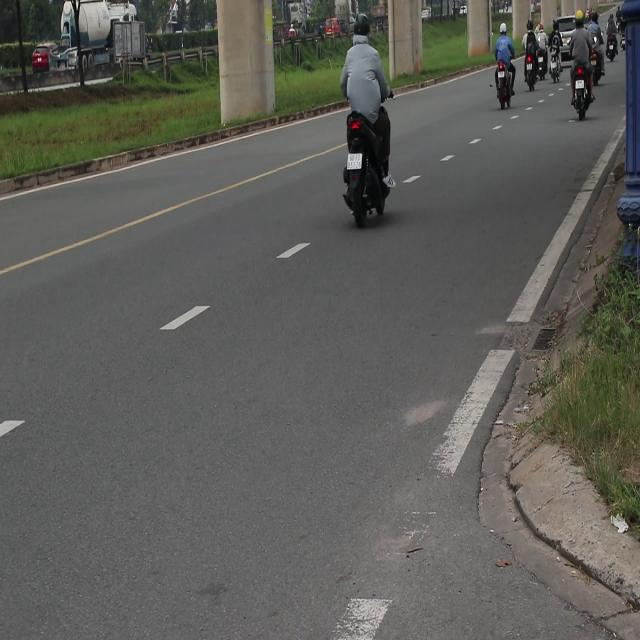car: (553, 14, 580, 56), (33, 46, 56, 70)
motorbike: (336, 113, 420, 246), (569, 54, 598, 120), (584, 36, 608, 85), (497, 61, 515, 119), (526, 49, 536, 103), (533, 42, 545, 83), (552, 56, 564, 91), (609, 31, 620, 60)
truck: (90, 18, 171, 61)
